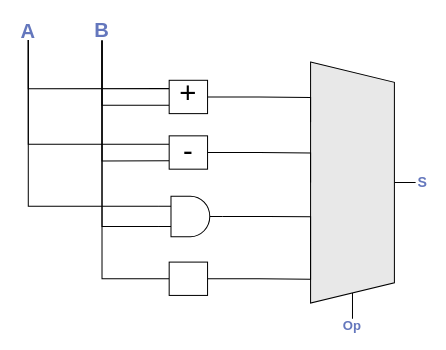
The diagram is 446 pixels wide and 350 high, and some of its shapes have lost their labels. The centre of each missing label's shape, as x and y in pixels:
"MUX" belongs at point (352, 182).
"NOT" belongs at point (188, 278).
